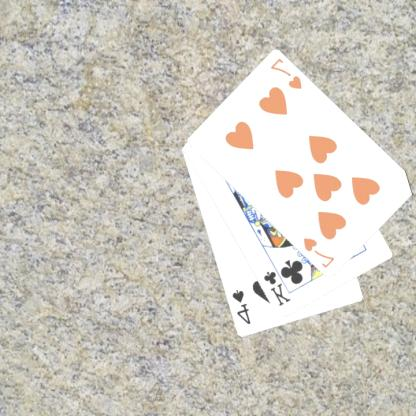4S: (231, 287, 254, 326)
7H: (269, 56, 305, 92), (302, 235, 338, 270)
KC: (262, 261, 294, 308)
